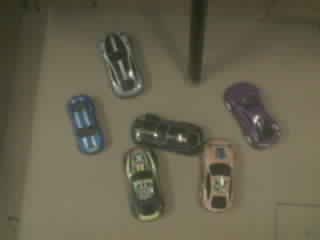Car: (224, 83, 278, 146), (133, 114, 203, 153), (103, 33, 142, 96), (201, 139, 234, 211), (126, 150, 160, 218), (69, 96, 102, 151)
